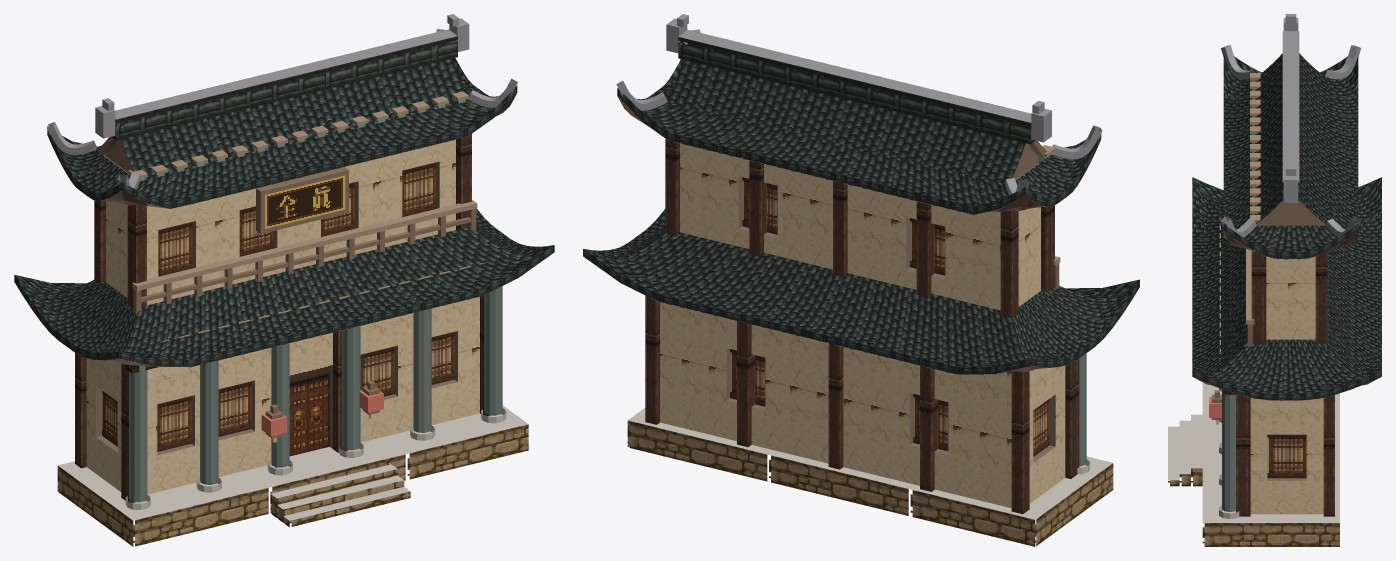
File: g_jeonjin_hut_b.glb
The picture shows the model from 3 angles, left to right: view 1: azimuth 30°, elevation 25°; view 2: azimuth 150°, elevation 25°; view 3: azimuth 270°, elevation 25°; orthographic projection. The views are drawn at different scales.
Visible parts, largest first — view 1: roof, plaster, col, stone, stonetop, win, post, eave, ridge, wood, woodl, ridgeend (+5 smaller); view 2: plaster, roof, post, stone, eave, ridge, ridgeend, win, stonetop, reveal, under, col (+1 smaller); view 3: roof, plaster, stonetop, post, ridgeend, stone, eave, woodl, win, col, wood, under.
Boxes of the visible parts, x1,y1,x2,y2 form: roof: (14,58,553,359); plaster: (86,139,479,494); col: (129,286,502,502); stone: (57,424,528,546); stonetop: (58,405,528,520); win: (102,162,454,451); post: (75,134,490,502); eave: (14,85,554,367); ridge: (111,36,457,140); wood: (96,137,476,438); woodl: (128,91,487,342); ridgeend: (46,14,517,192); plaster: (660,143,1065,508); roof: (583,59,1139,367); post: (645,138,1079,514); stone: (627,420,1113,546); eave: (583,88,1139,374); ridge: (678,37,1035,144); ridgeend: (616,14,1102,196); win: (730,177,1049,456); stonetop: (628,408,1112,519); reveal: (726,176,1055,462); under: (583,96,1139,374); col: (1079,353,1086,466); roof: (1192,53,1381,393); plaster: (1250,256,1323,514); stonetop: (1168,382,1339,523); post: (1236,251,1334,516); ridgeend: (1221,14,1361,237); stone: (1168,468,1339,546); eave: (1192,224,1381,400); woodl: (1219,73,1261,360); win: (1267,434,1306,478); col: (1222,389,1235,511); wood: (1211,200,1325,419); under: (1192,208,1378,400).
Size of the model in its own units: 86.83 by 77.03 by 40.69.
Materials: 20 (10 with a texture image).
